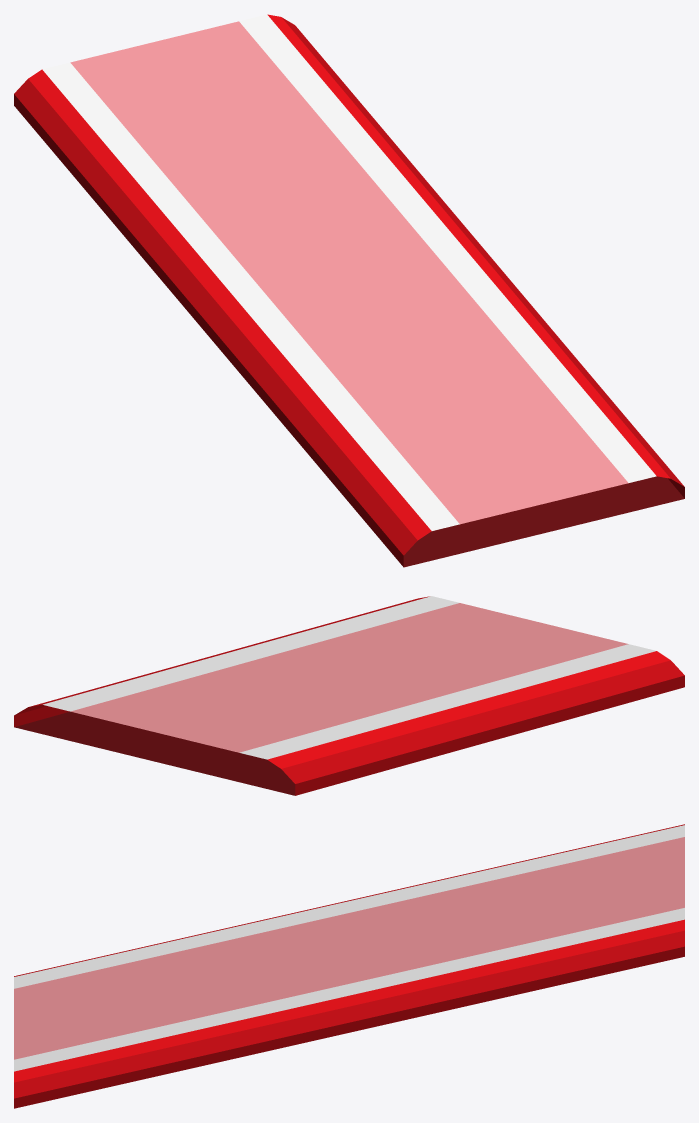
File: incLong2.fbx
3 renders of one model, top to bottom at view 1: azimuth 30°, elevation 25°; view 2: azimuth 150°, elevation 25°; view 3: azimuth 270°, elevation 25°, orthographic. The views are drawn at different scales.
Parts seen in each view (by area): view 1: InclineLong2; view 2: InclineLong2; view 3: InclineLong2.
Part boxes in pixels (x1,y1,x2,y2): InclineLong2: [14, 14, 684, 567]; InclineLong2: [14, 596, 684, 795]; InclineLong2: [14, 824, 684, 1108].
Bounding box in the file's own units: 10 × 7 × 24.
